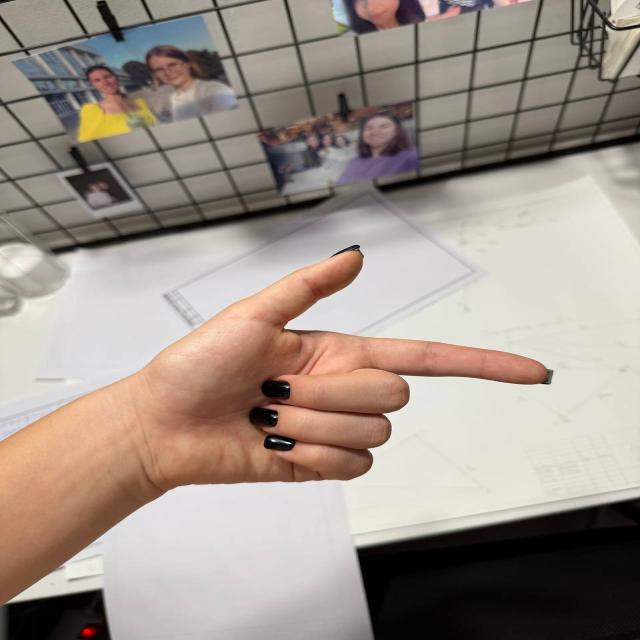g: (158, 247, 552, 483)
